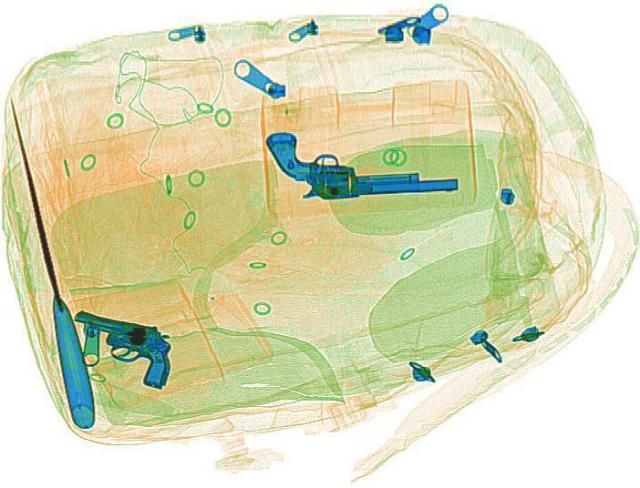Gun: (262, 121, 456, 202), (48, 307, 188, 388)
Knife: (0, 95, 96, 427)
